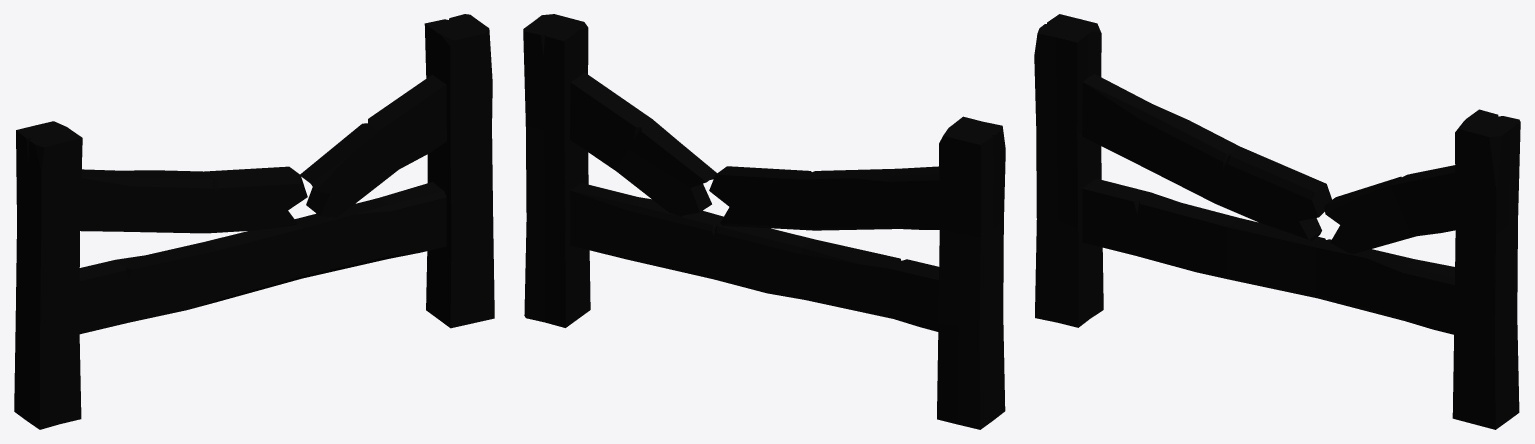
Rendered from valla.003.fbx.
3 views of the same model, side by side, from view 1: azimuth 30°, elevation 25°; view 2: azimuth 150°, elevation 25°; view 3: azimuth 330°, elevation 25° (orthographic).
Parts seen in each view (by area): view 1: Cube.073; view 2: Cube.073; view 3: Cube.073.
Boxes of the visible parts, x1,y1,x2,y2 form: Cube.073: (14,14,494,429); Cube.073: (523,14,1005,429); Cube.073: (1034,14,1520,429).
Size of the model in its own units: 78.52 by 8.27 by 47.2.
